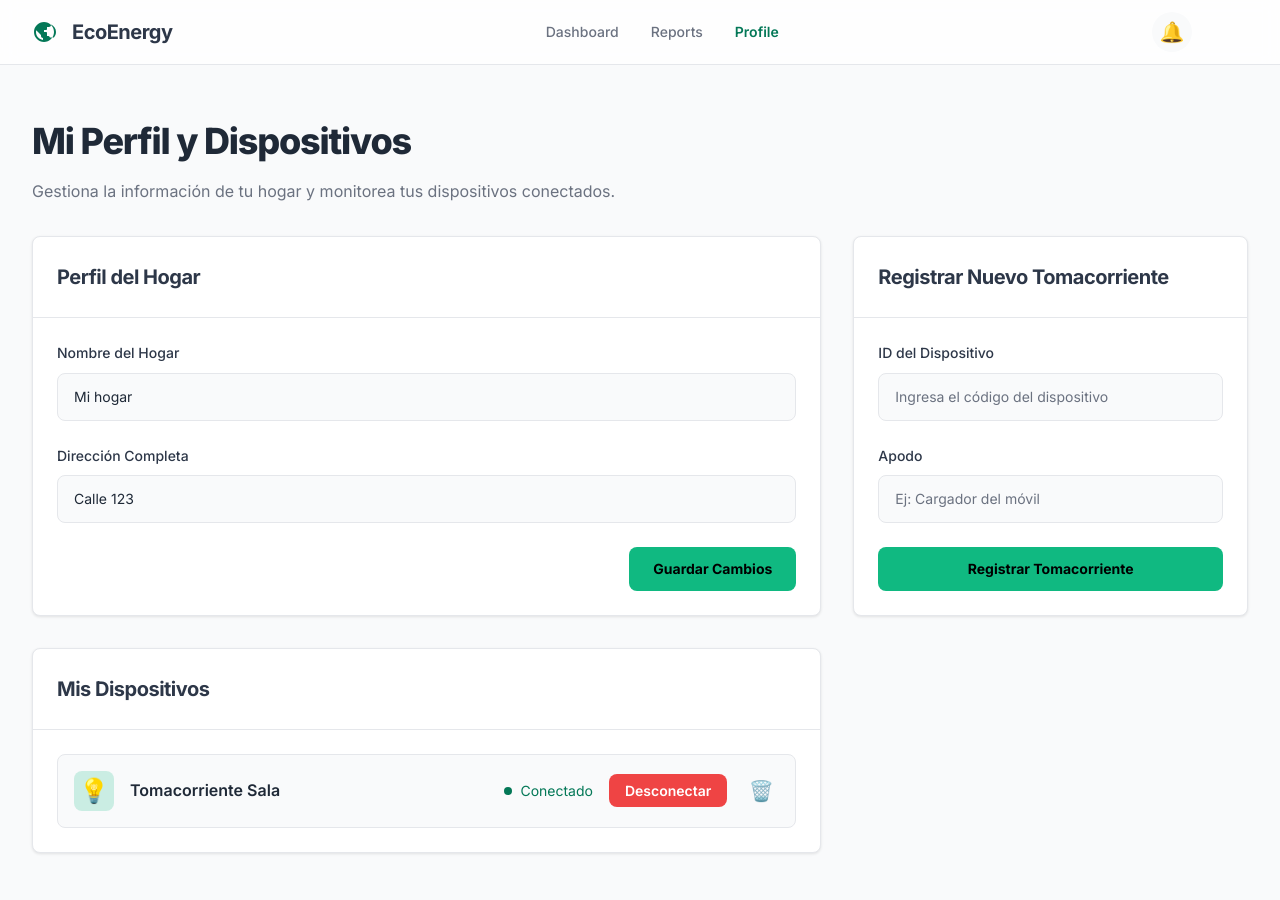
Test case: Eliminación de tomacorrientes en perfil › CP-DEL-004 usa el mensaje por defecto cuando el backend no envía 'error'
The image size is (1280, 900).
Expected: the heading "Mis Dispositivos" is shown, [57, 677, 209, 701]
Step 1. Click the button titled "eliminar dispositivo" → (761, 791), box [743, 773, 779, 809]
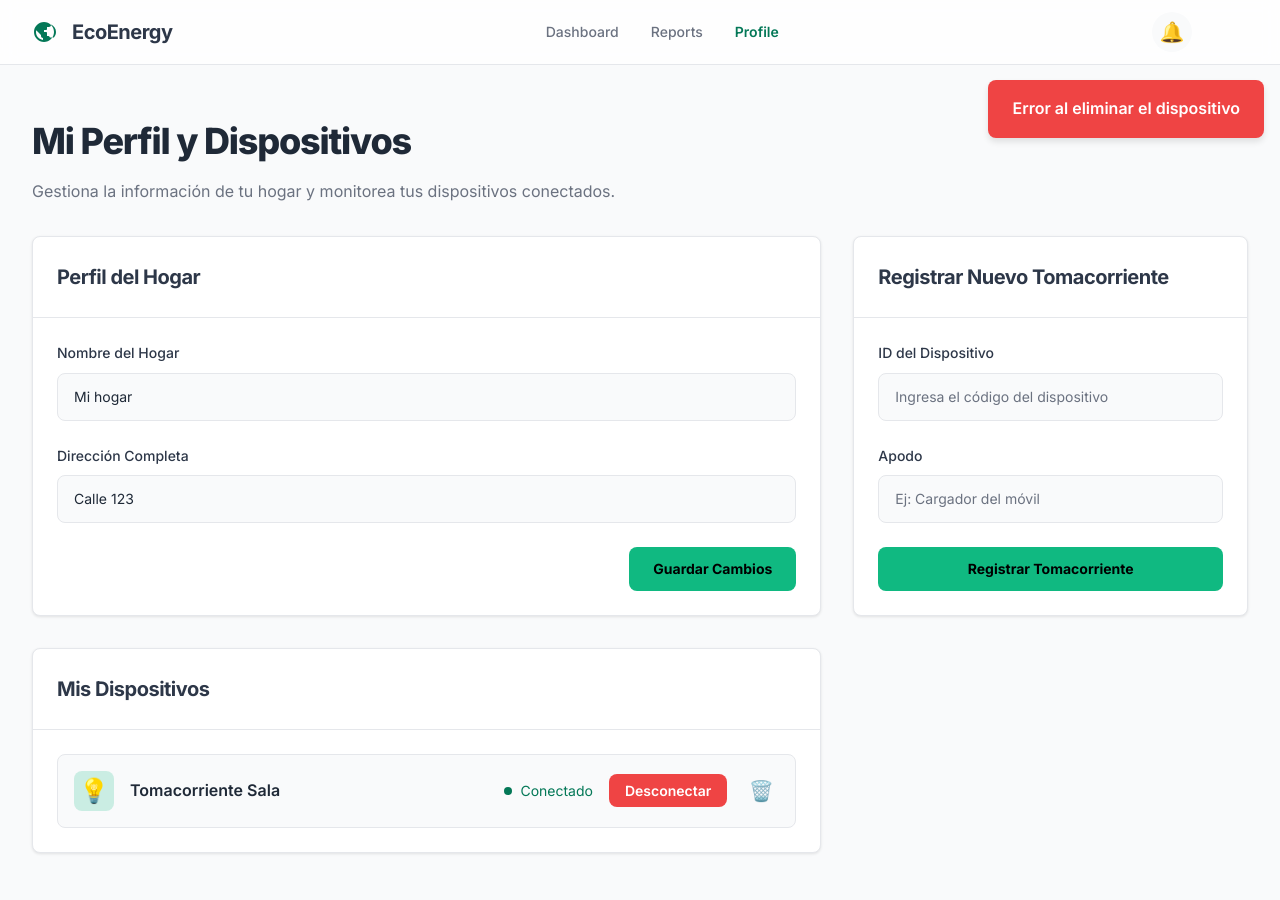
Expected: the field showing "Tomacorriente Sala" is shown, [130, 780, 488, 800]
Result: the text "Error al eliminar el dispositivo" is shown at [988, 80, 1264, 138]
